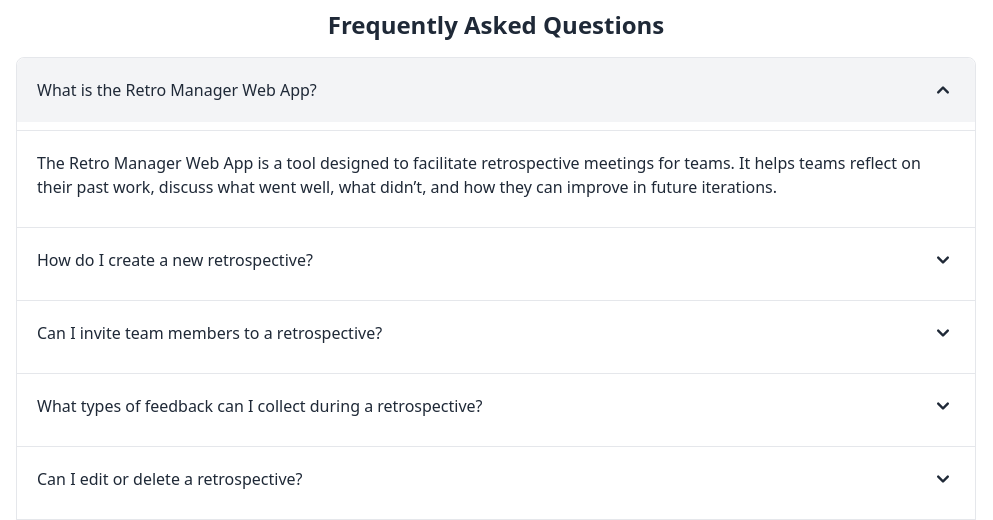
FrequentlyAskedQuestions › displays the content of the second FAQ item when clicked
Click the button "How do I create a new retrospective?" at (175, 260), box [17, 227, 975, 292]
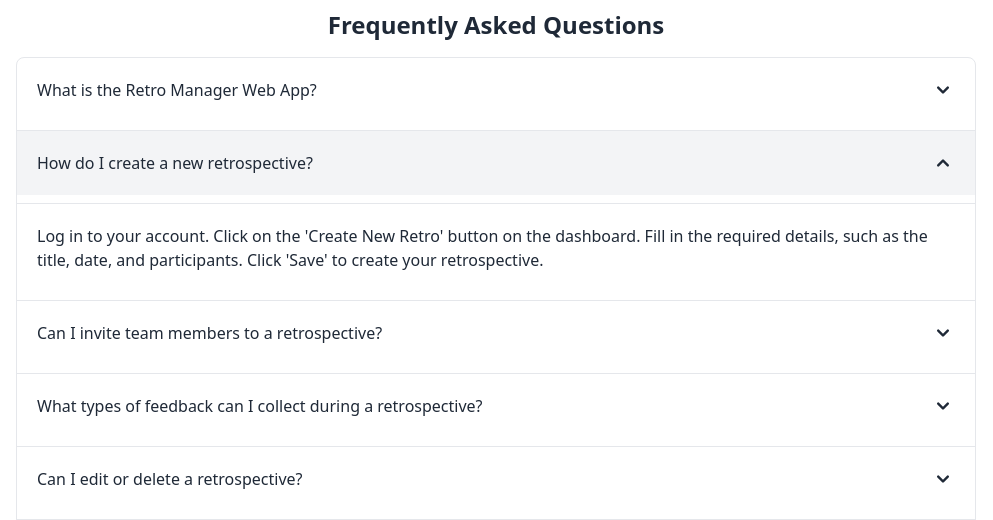
Result: the text "Log in to your account. Click on the 'Create New Retro' button on the dashboard. Fill in the required details, such as t" is shown at [37, 225, 928, 271]
